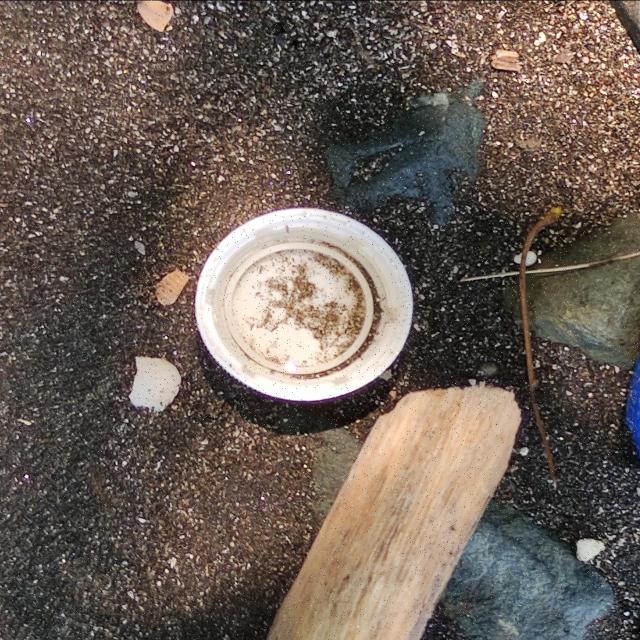plastic_waste: (194, 205, 415, 402)
